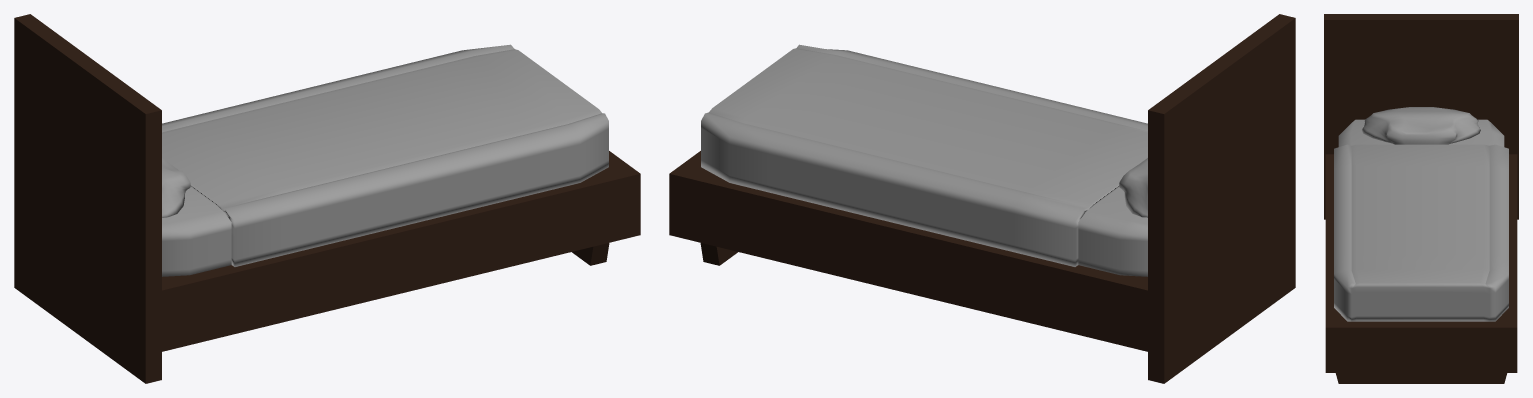
The model's file is Bed.fbx.
The picture shows the model from 3 angles, left to right: view 1: azimuth 30°, elevation 25°; view 2: azimuth 150°, elevation 25°; view 3: azimuth 270°, elevation 25°; orthographic projection. The views are drawn at different scales.
Parts seen in each view (by area): view 1: Cube.078, Cube.074, Cube.073, Cube.076, Cube.077, Cube.075; view 2: Cube.078, Cube.074, Cube.073, Cube.076, Cube.077, Cube.075; view 3: Cube.078, Cube.074, Cube.073, Cube.077, Cube.075, Cube.076.
Part boxes in pixels (x1,y1,x2,y2): Cube.078: (162,44,608,266); Cube.074: (14,14,161,383); Cube.073: (162,151,640,351); Cube.076: (162,187,231,276); Cube.077: (162,158,190,217); Cube.075: (572,243,609,265); Cube.078: (701,44,1147,266); Cube.074: (1148,14,1295,383); Cube.073: (669,151,1147,351); Cube.076: (1078,187,1147,276); Cube.077: (1119,158,1147,217); Cube.075: (700,243,737,265); Cube.078: (1334,144,1508,321); Cube.074: (1324,14,1518,219); Cube.073: (1325,154,1517,372); Cube.077: (1362,107,1480,144); Cube.075: (1335,373,1507,383); Cube.076: (1338,119,1504,146).
Bounding box in the file's own units: 1874 × 974 × 860.
